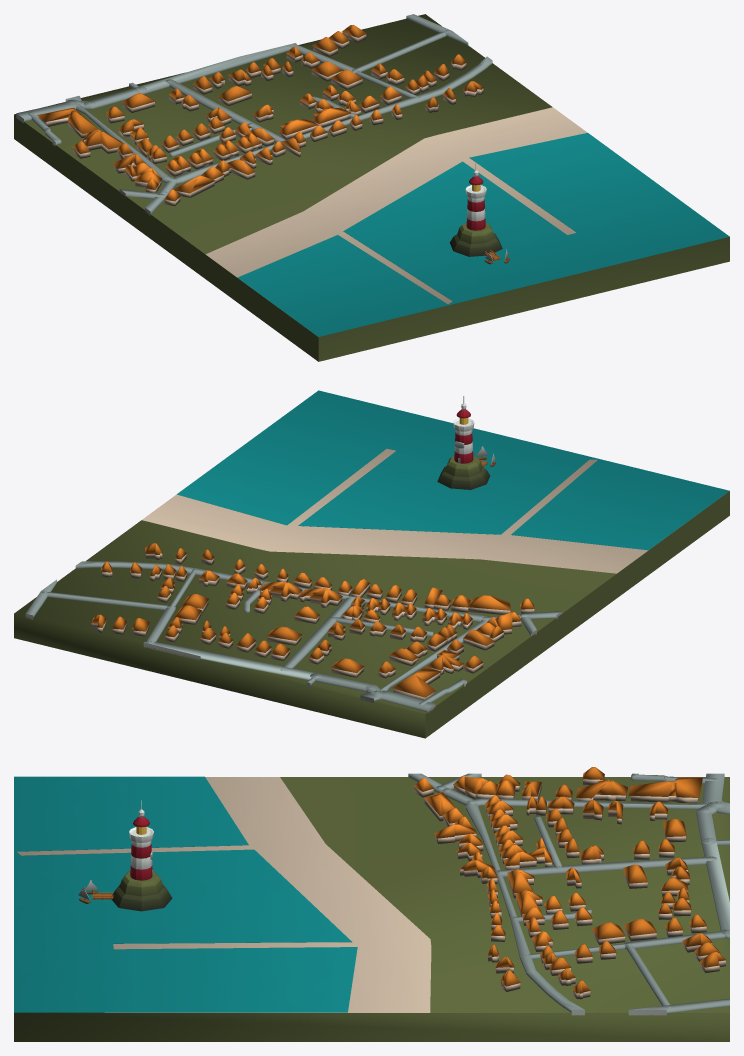
File: zoutelande_map.fbx
3 views of the same model, one above another, from view 1: azimuth 30°, elevation 25°; view 2: azimuth 150°, elevation 25°; view 3: azimuth 270°, elevation 25° (orthographic). The views are drawn at different scales.
Parts seen in each view (by area): view 1: map_mesh (1).043; view 2: map_mesh (1).043; view 3: map_mesh (1).043.
Part boxes in pixels (bbox=[...]): map_mesh (1).043: bbox=[14, 14, 729, 361]; map_mesh (1).043: bbox=[14, 390, 729, 738]; map_mesh (1).043: bbox=[14, 767, 729, 1041].
Size of the model in its own units: 1752 by 439 by 2246.
5 materials, 5 textured.
